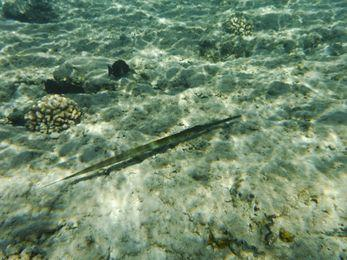Fistularia commersonii: (53, 111, 259, 187)
